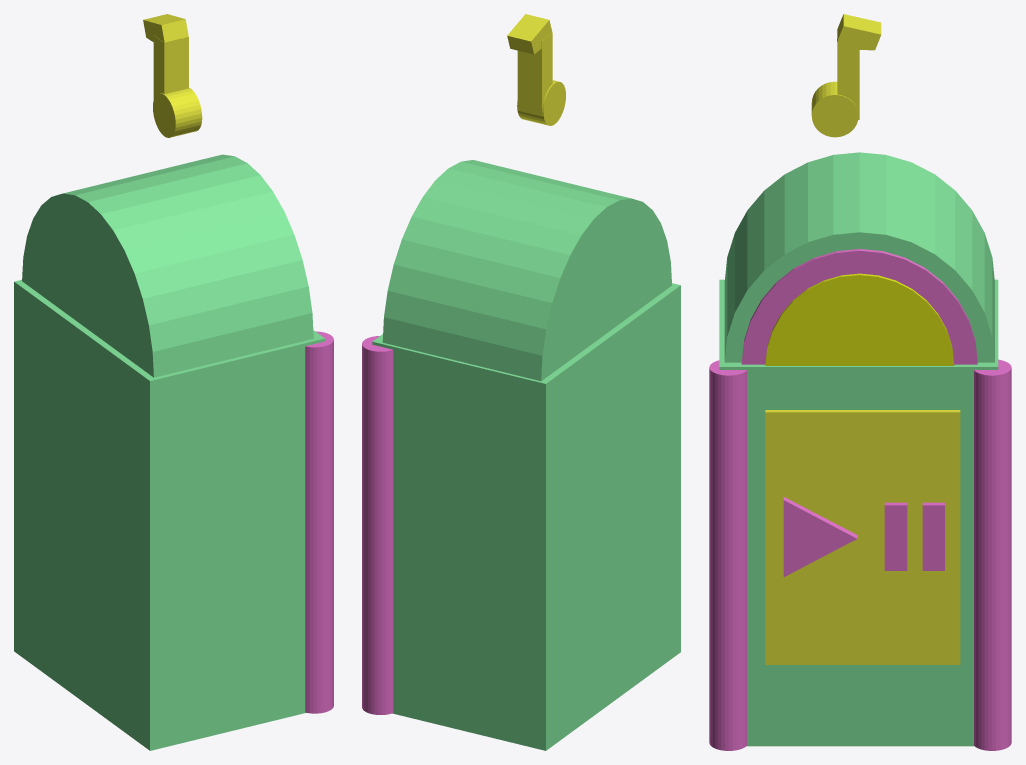
File: jukebox.gltf
The picture shows the model from 3 angles, left to right: view 1: azimuth 30°, elevation 25°; view 2: azimuth 150°, elevation 25°; view 3: azimuth 270°, elevation 25°; orthographic projection. The views are drawn at different scales.
Visible parts, largest first — view 1: base, Cylinder, Cylinder.001, quaver; view 2: base, Cylinder, Cylinder.002, quaver; view 3: Cube, base, Cylinder, Cylinder.002, Cylinder.001, Cylinder.004, Cylinder.003, quaver, Cube.003, Cube.005, Cube.004.
Part boxes in pixels (left/top/right/bottom): base: left=14, top=279, right=324, bottom=750; Cylinder: left=22, top=154, right=313, bottom=377; Cylinder.001: left=305, top=331, right=333, bottom=713; quaver: left=143, top=14, right=202, bottom=137; base: left=372, top=283, right=680, bottom=750; Cylinder: left=382, top=160, right=671, bottom=381; Cylinder.002: left=362, top=336, right=393, bottom=714; quaver: left=507, top=14, right=565, bottom=125; Cube: left=765, top=410, right=960, bottom=664; base: left=719, top=279, right=998, bottom=746; Cylinder: left=724, top=152, right=994, bottom=362; Cylinder.002: left=974, top=359, right=1011, bottom=750; Cylinder.001: left=709, top=360, right=746, bottom=750; Cylinder.004: left=765, top=273, right=954, bottom=365; Cylinder.003: left=741, top=249, right=977, bottom=364; quaver: left=811, top=14, right=881, bottom=137; Cube.003: left=783, top=497, right=857, bottom=576; Cube.005: left=884, top=502, right=907, bottom=570; Cube.004: left=922, top=502, right=944, bottom=570.
Bounding box in the file's own units: 1.59 × 5.39 × 2.17.
